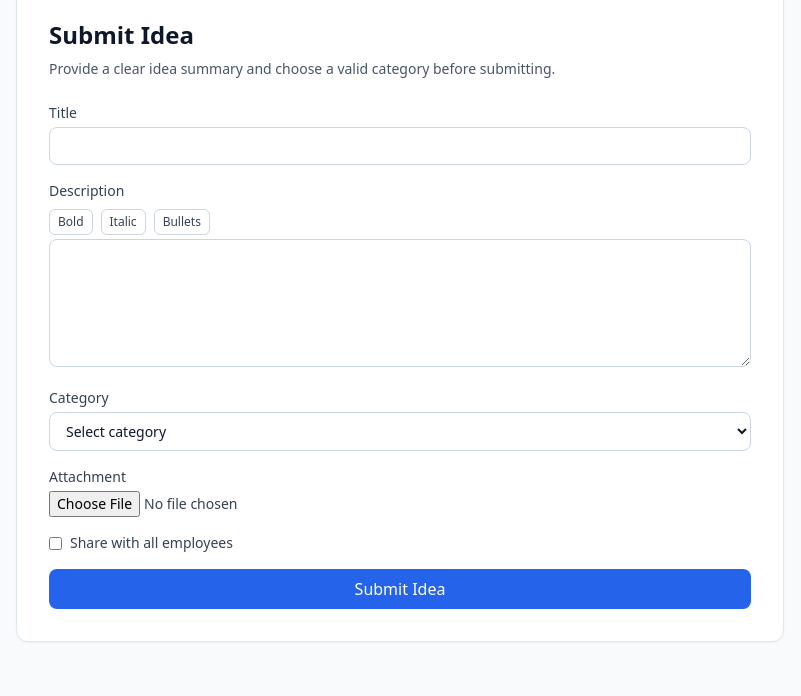
Test: idea submission page refactor › renders standardized red alert when submission fails
This screenshot has width=801, height=696.
Type "Idea title" into the field named "Title".
click(400, 146); type("Idea title")  # box [49,127,751,165]
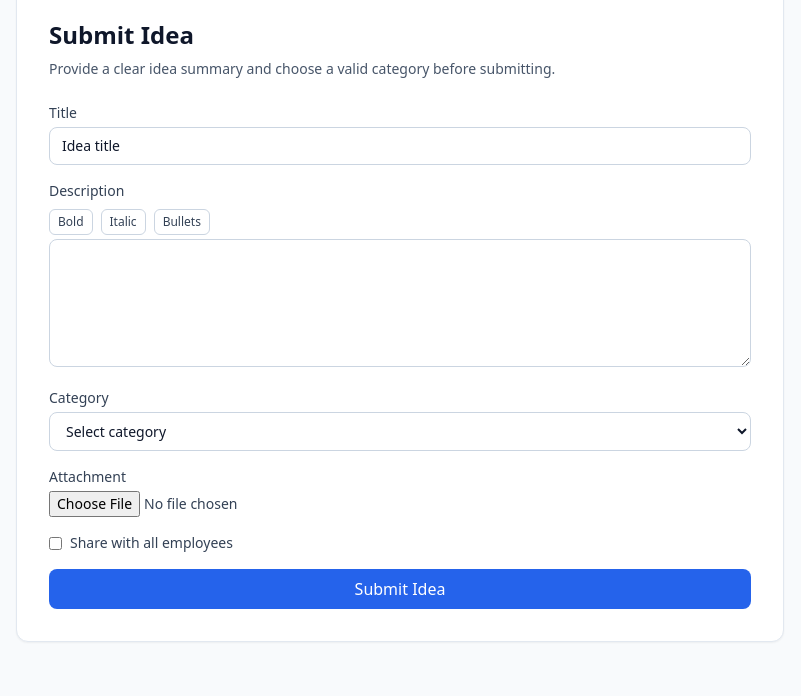
Type "Idea description" into the text box named "Description".
click(400, 303); type("Idea description")  # box [49,239,751,367]
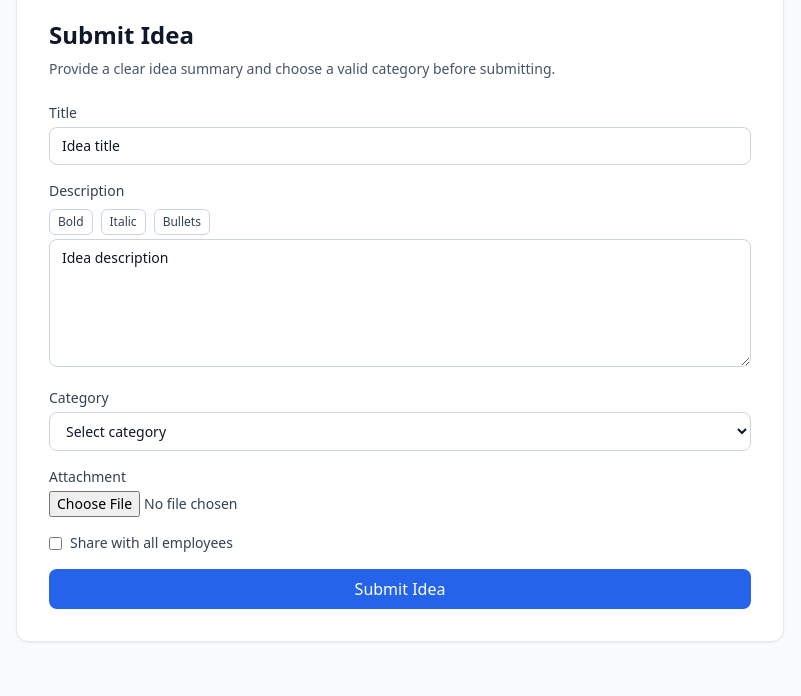
Select "Process Improvement" in the dropdown named "Category" at (400, 432), box [49,412,751,451]
(page scrolled)
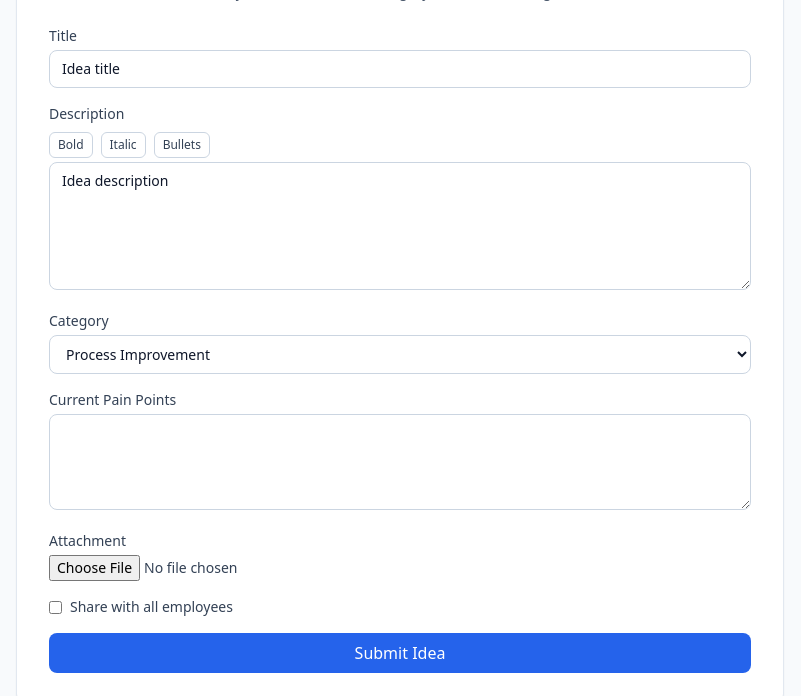
Submit the form
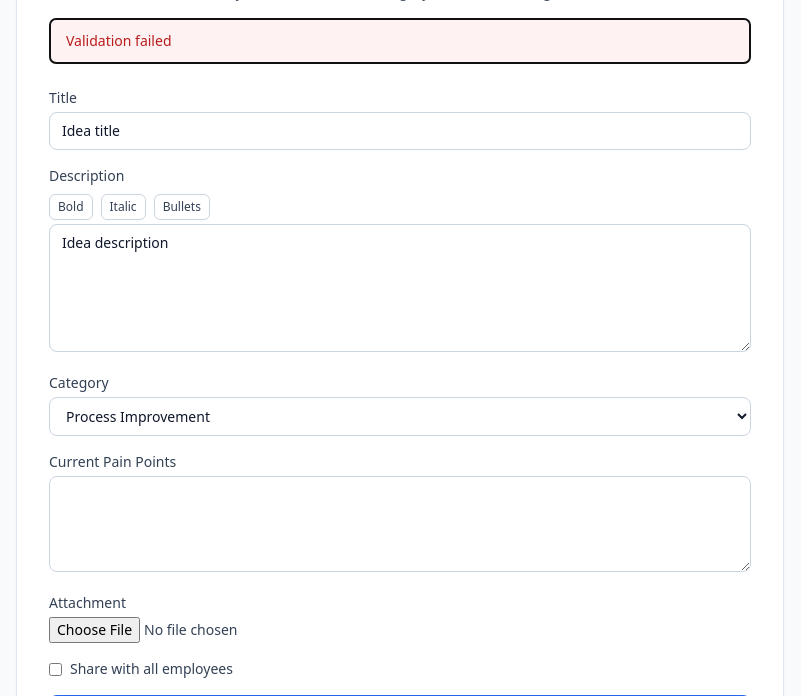
Result: the message "Validation failed" is shown at [49,18,751,64]
